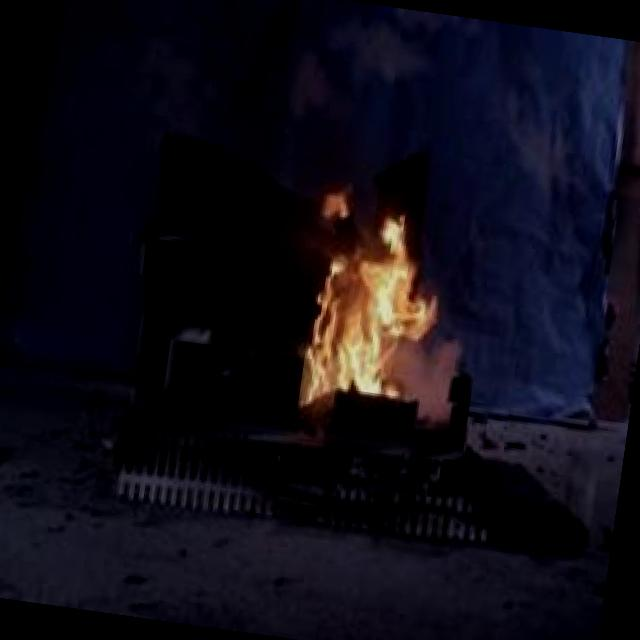fire: (284, 176, 464, 417)
